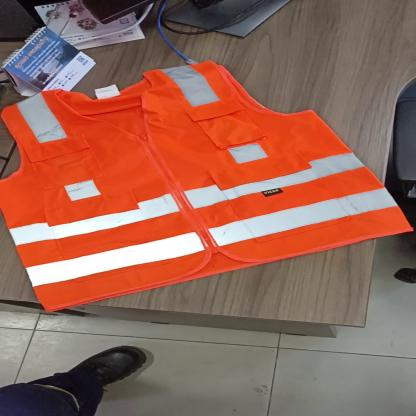colete: (1, 57, 416, 318)
